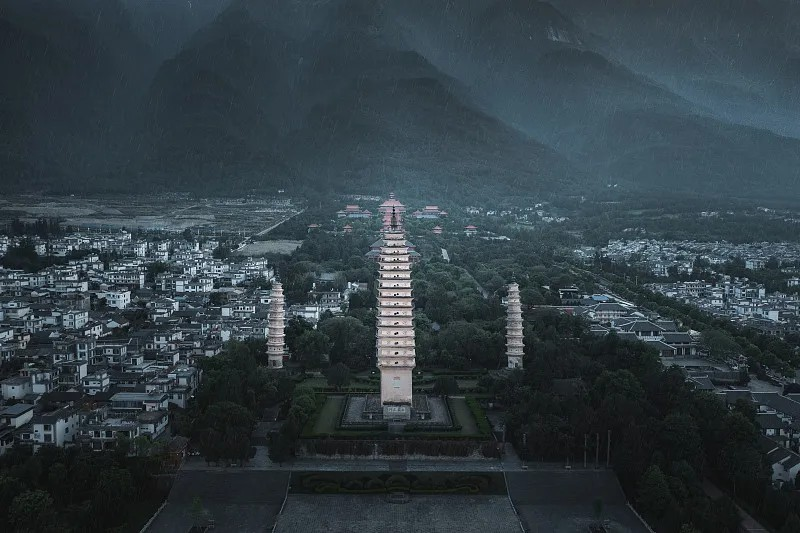ThreePagoda: (375, 206, 416, 408)
